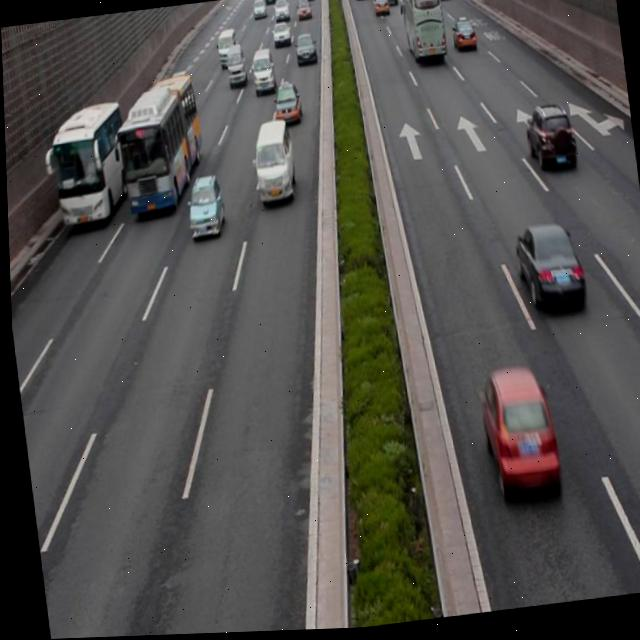car: (473, 367, 557, 506), (510, 226, 582, 316), (520, 105, 576, 176), (181, 175, 224, 241), (270, 81, 301, 130)
truck: (249, 121, 296, 207)
van: (111, 75, 208, 218), (44, 101, 132, 232)
